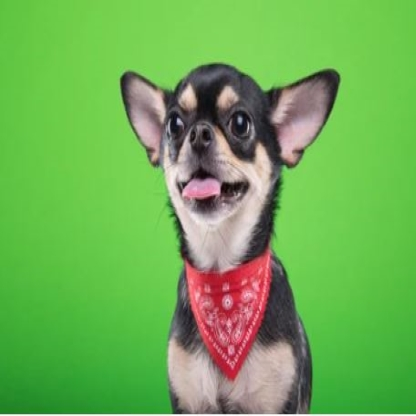chihuahua: (119, 63, 343, 413)
